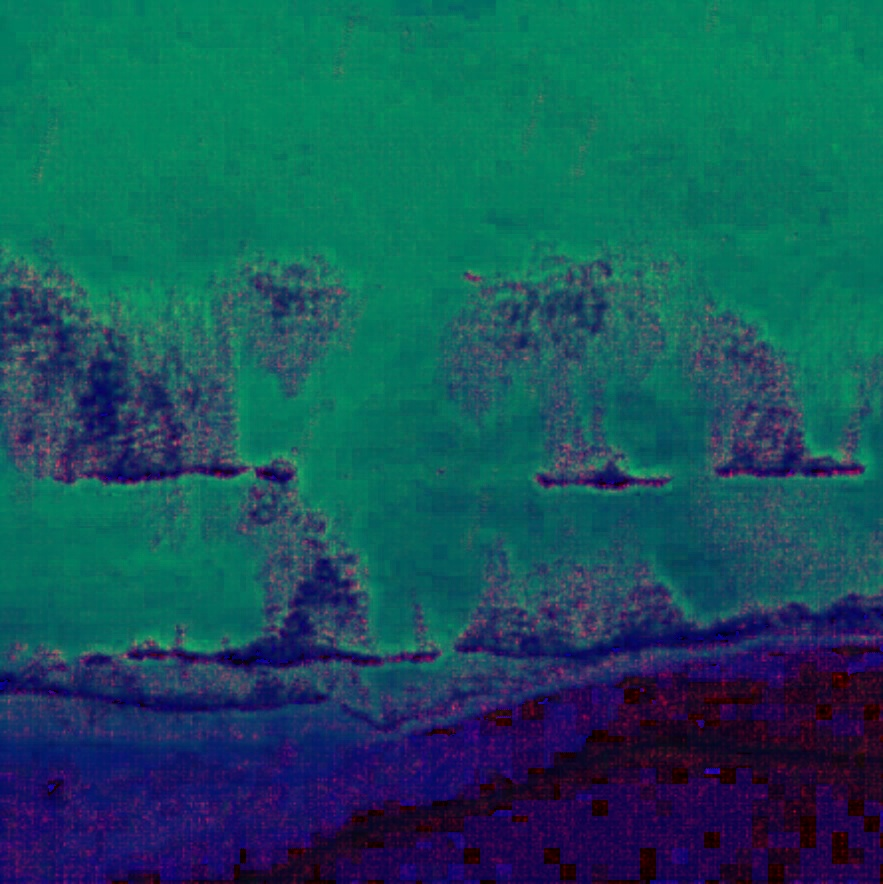rip_current: (231, 283, 540, 665)
